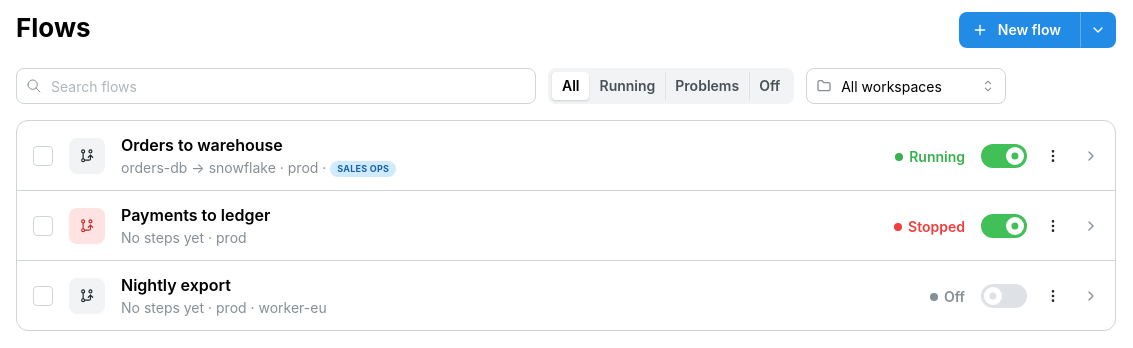
Flows › keeps Describe it, Templates and Import under New flow ▾
The width and height of the screenshot is (1133, 348).
Check: the list named "Flows" is shown, box [16,120,1116,331]
Click the button named "More ways to make a flow" at coordinates (1098, 30), box [1080,12,1116,48]
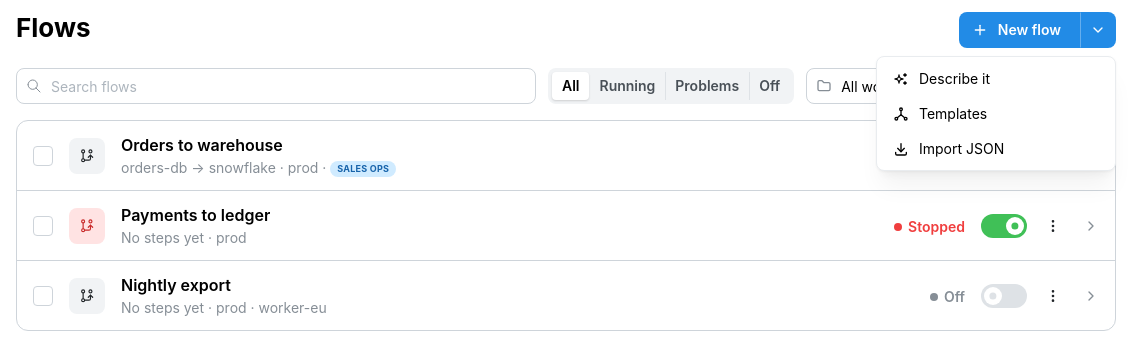
Check: the menu item "Describe it" is shown, box [881,61,1111,96]
Check: the menu item "Templates" is shown, box [881,96,1111,131]
Check: the menu item "Import JSON" is shown, box [881,131,1111,166]
